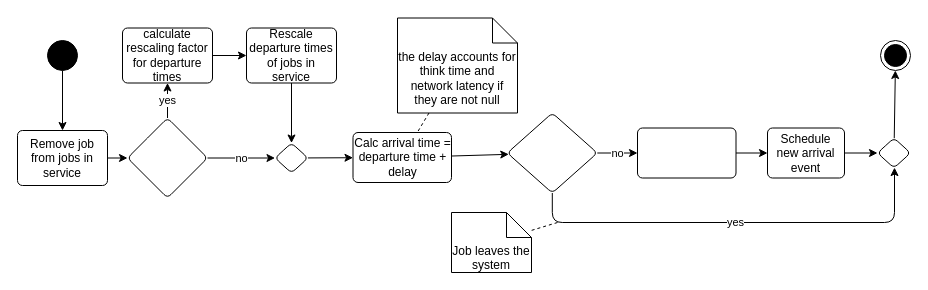
Some shapes in this 928 by 290 pixel diagram are drawn without their labels. The shapes that lost their labels are listed below. From the top down, each one's centre as x and y in pixels, then its label:
(167,157): Is server a PS?
(551,152): Is server A and job class 3?
(686,152): Get next server from routing matrix
